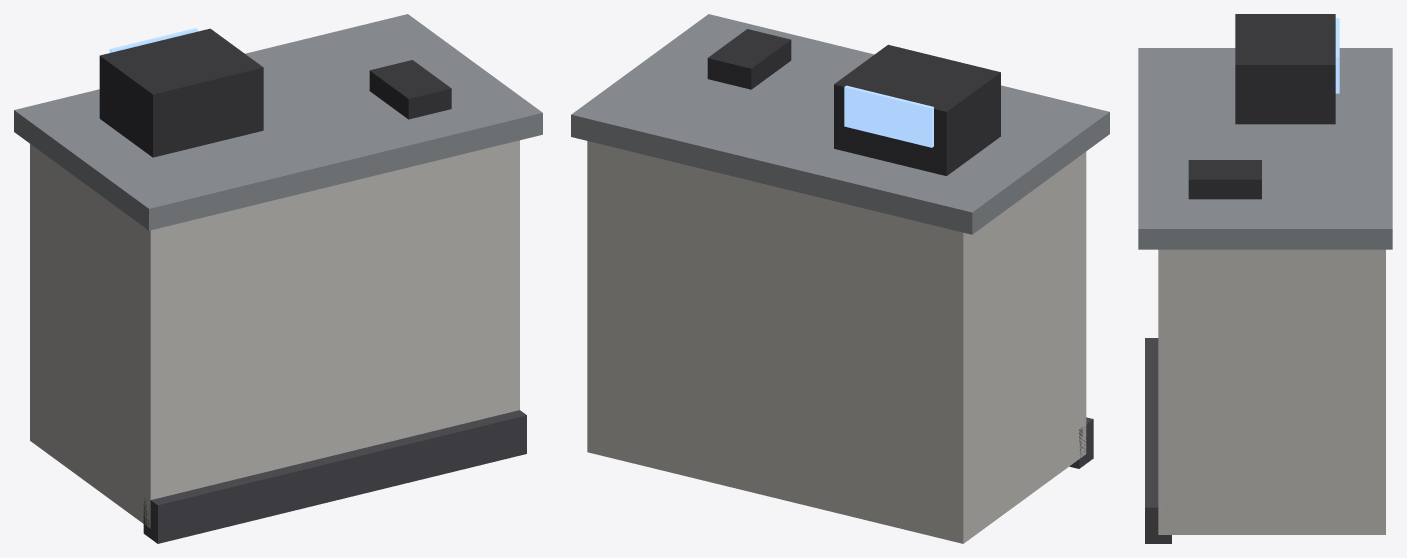
File: billing_counter.glb
3 views of the same model, side by side, from view 1: azimuth 30°, elevation 25°; view 2: azimuth 150°, elevation 25°; view 3: azimuth 270°, elevation 25° (orthographic). The views are drawn at different scales.
Parts seen in each view (by area): view 1: Billing Counter; view 2: Billing Counter; view 3: Billing Counter.
Boxes of the visible parts, x1,y1,x2,y2 form: Billing Counter: (14, 14, 542, 543); Billing Counter: (571, 14, 1109, 543); Billing Counter: (1138, 14, 1392, 543).
Size of the model in its own units: 0.64 by 0.63 by 0.38.
